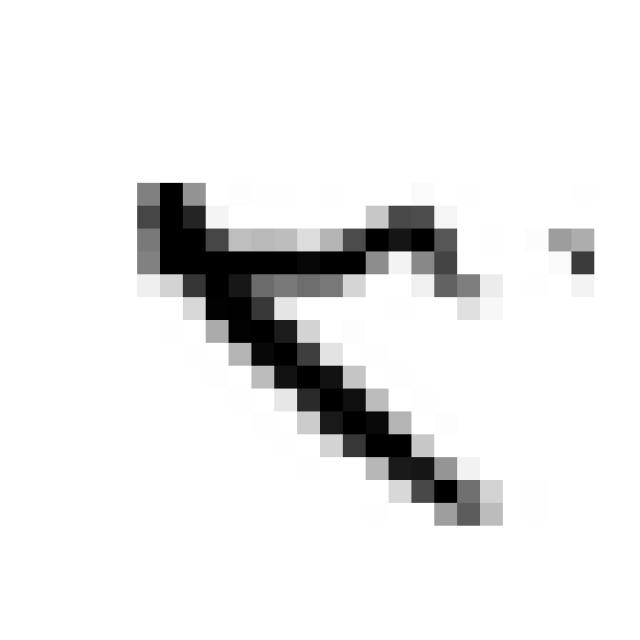3 -three-: (108, 155, 610, 546)
